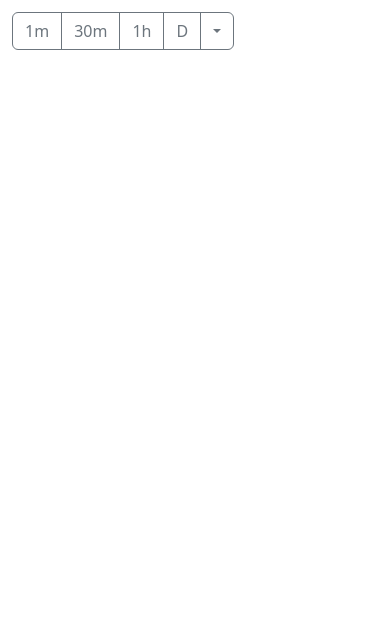
Test: filter Component › should show dropdown time filter options
This screenshot has width=377, height=633.
Click the button with test id "time-dropdown" at (217, 31), box [200, 12, 234, 50]
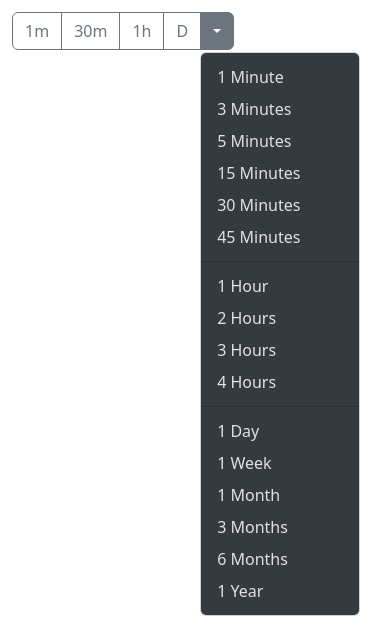
Now the element with test id "dropdown-menu" is shown, box [200, 52, 360, 616]
